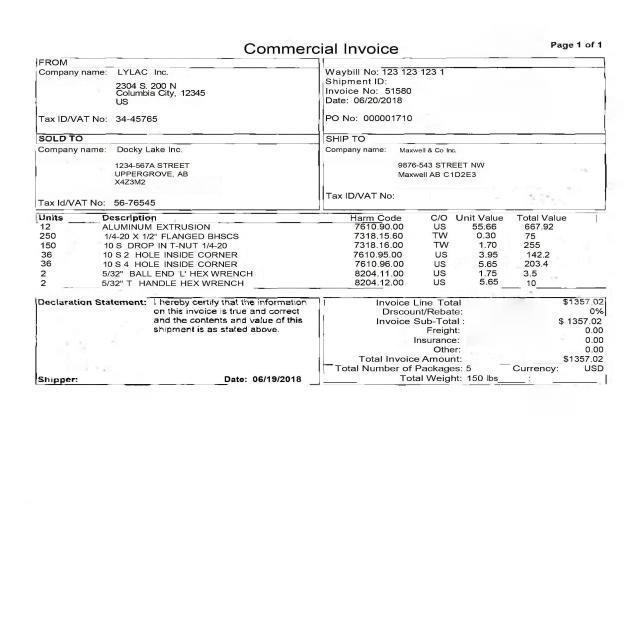ROI: (30, 208, 586, 292), (332, 298, 611, 392), (32, 295, 317, 351), (322, 134, 489, 211), (35, 132, 199, 209), (33, 57, 208, 127), (322, 62, 455, 124), (32, 367, 306, 393), (240, 37, 404, 59), (548, 37, 614, 53)
